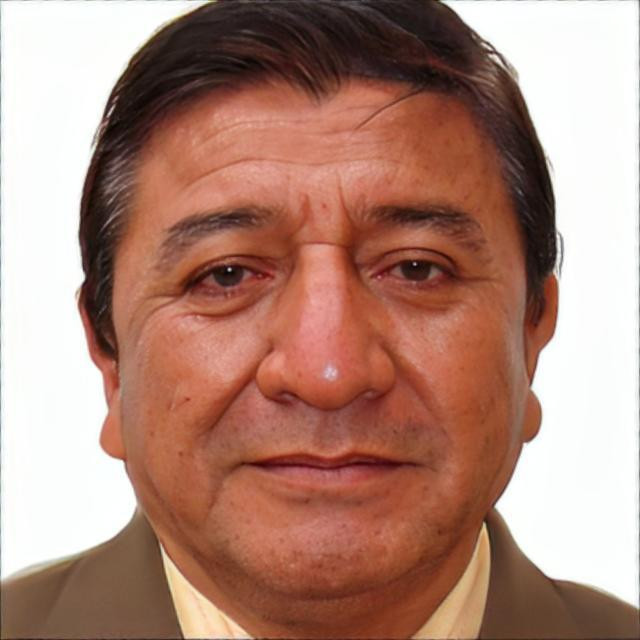content: (113, 70, 531, 596)
